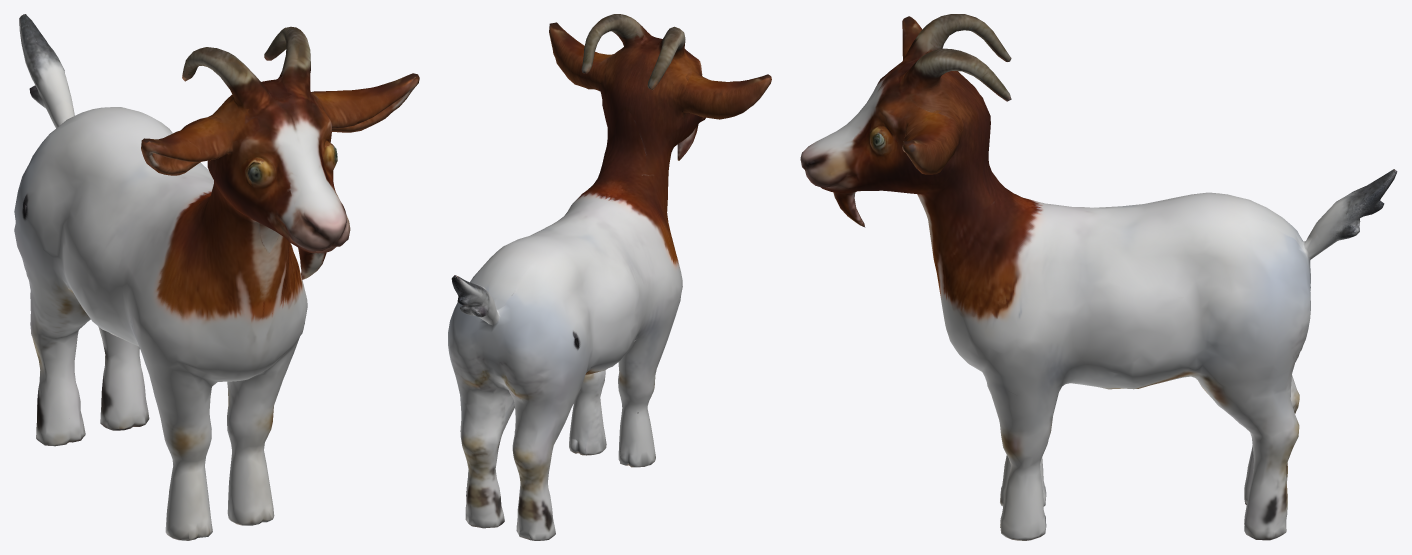
Rendered from Goat.fbx.
The picture shows the model from 3 angles, left to right: view 1: azimuth 30°, elevation 25°; view 2: azimuth 150°, elevation 25°; view 3: azimuth 270°, elevation 25°; orthographic projection. The views are drawn at different scales.
Parts seen in each view (by area): view 1: input; view 2: input; view 3: input.
Part boxes in pixels (x1,y1,x2,y2): input: (14, 14, 419, 540); input: (448, 14, 771, 540); input: (800, 14, 1397, 540).
Bounding box in the file's own units: 39.63 × 70 × 78.04.
Materials: 1 (1 with a texture image).
